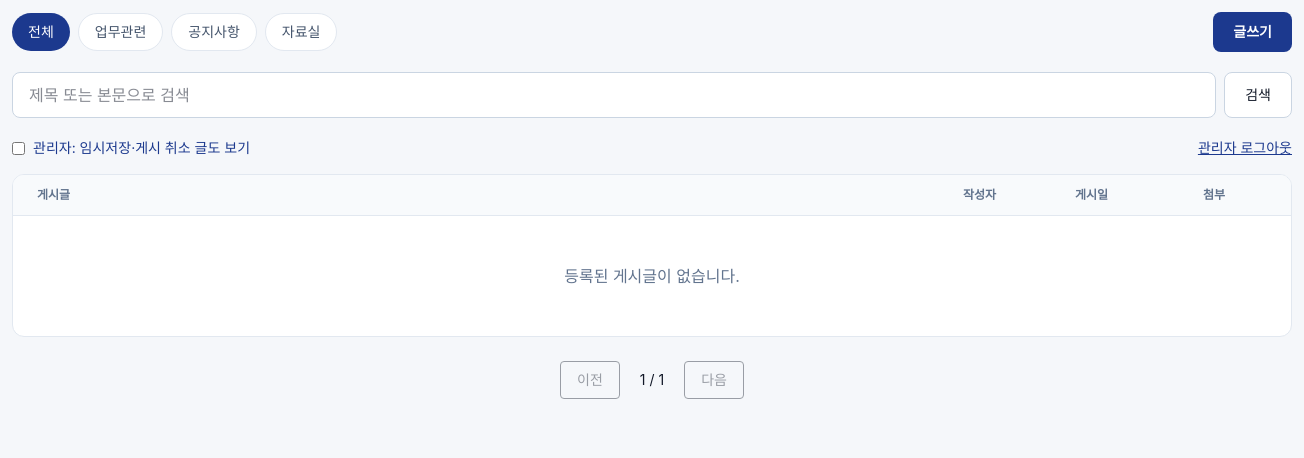
board user workflows › offers administrator logout and clears private management mode
Click the checkbox: (18, 148) [12,142,25,154]
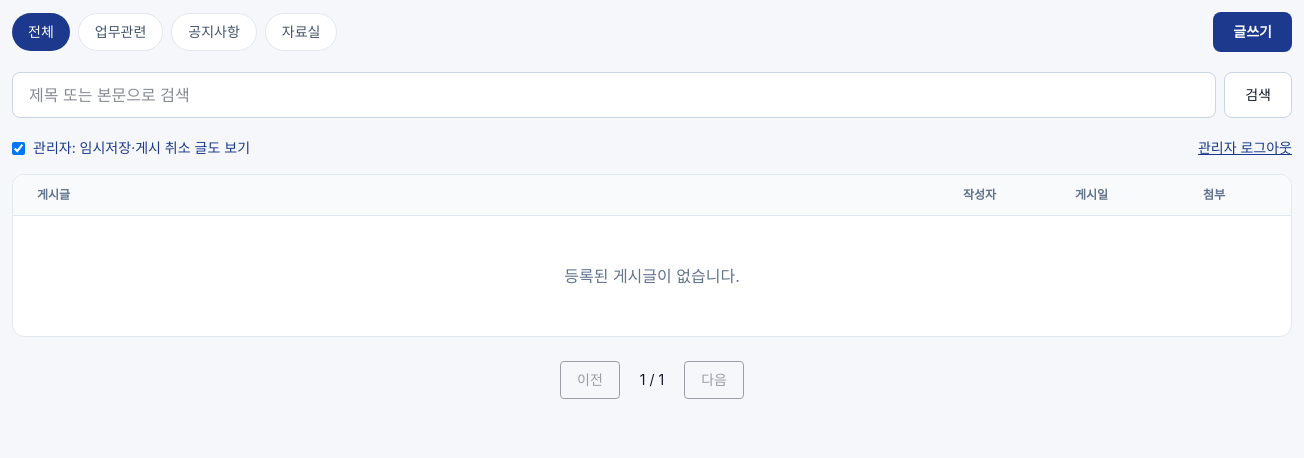
Click the button "관리자 로그아웃": (1245, 148) [1198,138,1292,158]
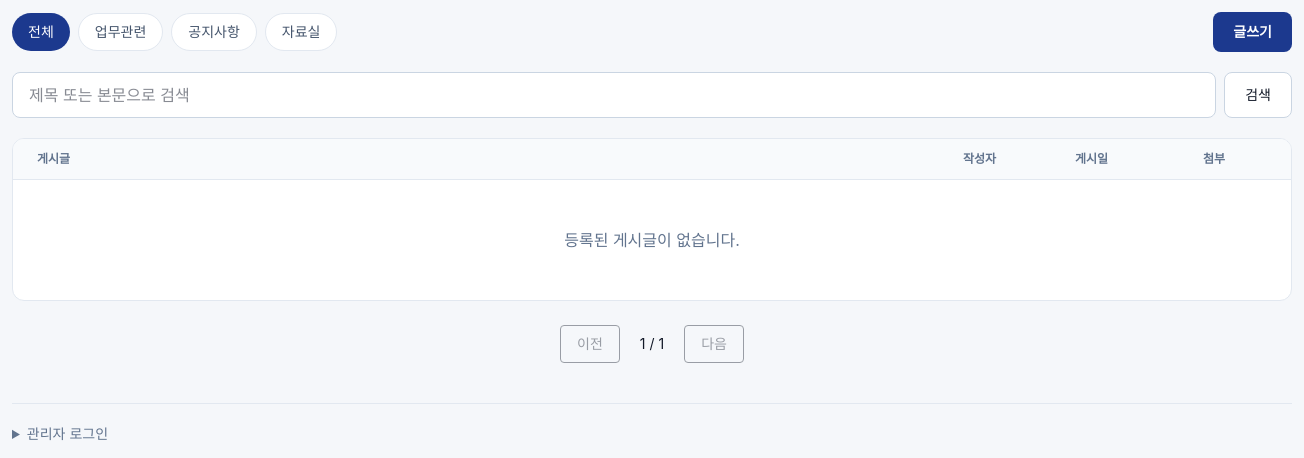
Check: the checkbox is gone
